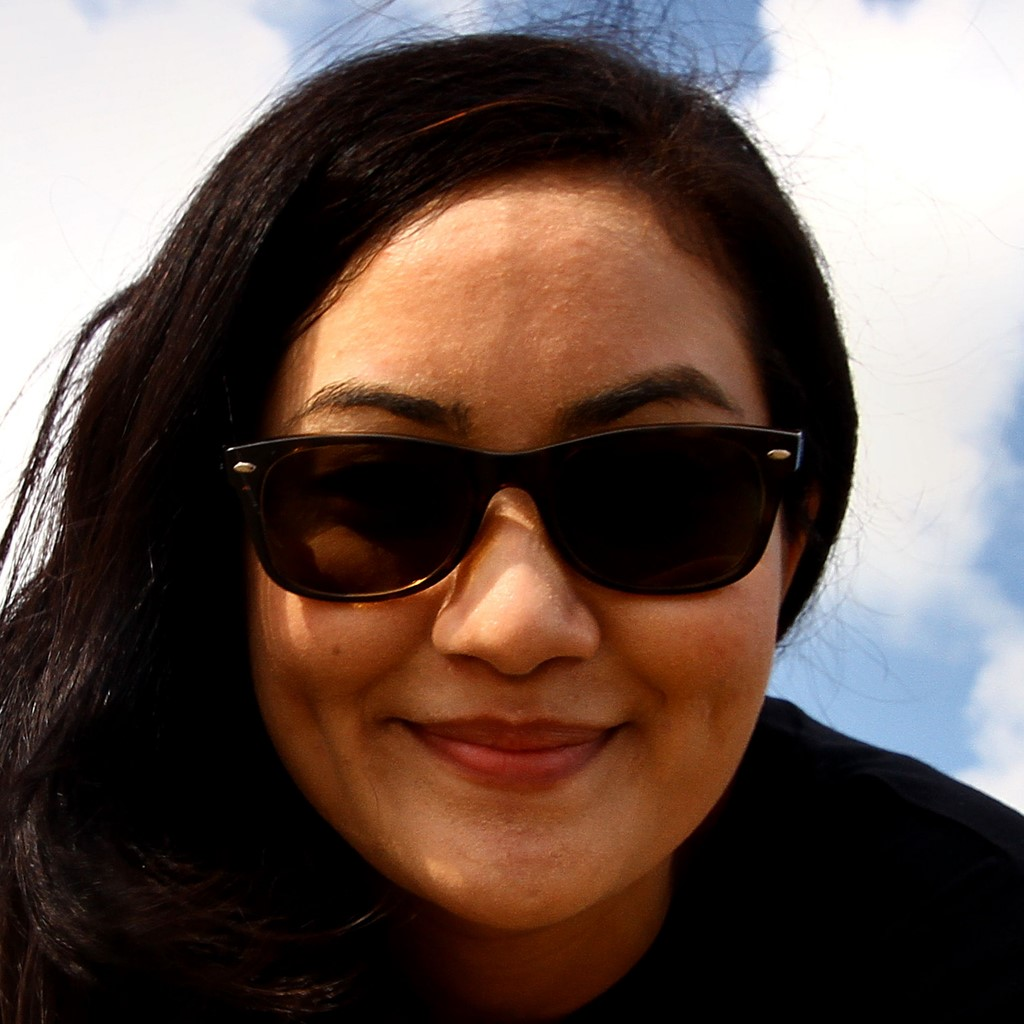sin_mascara: (229, 131, 766, 924)
